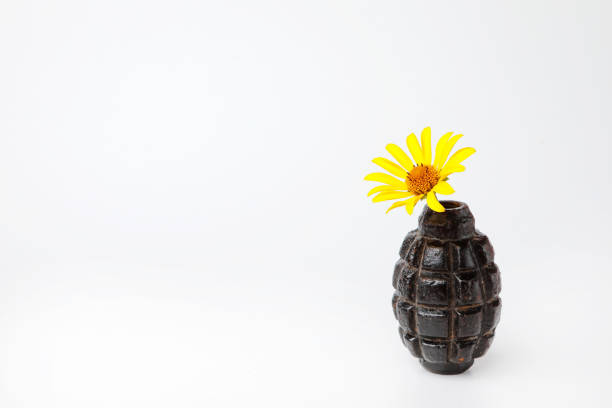e1: (388, 202, 508, 379)
